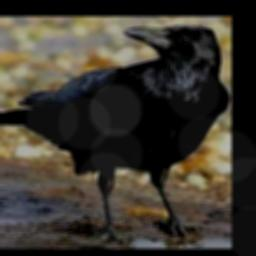Crow: (0, 25, 230, 243)
